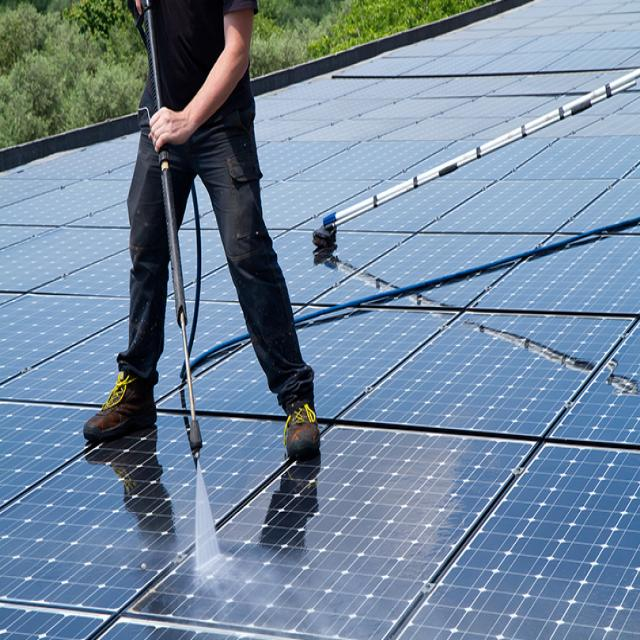clean-solar-panel: (255, 2, 640, 316)
